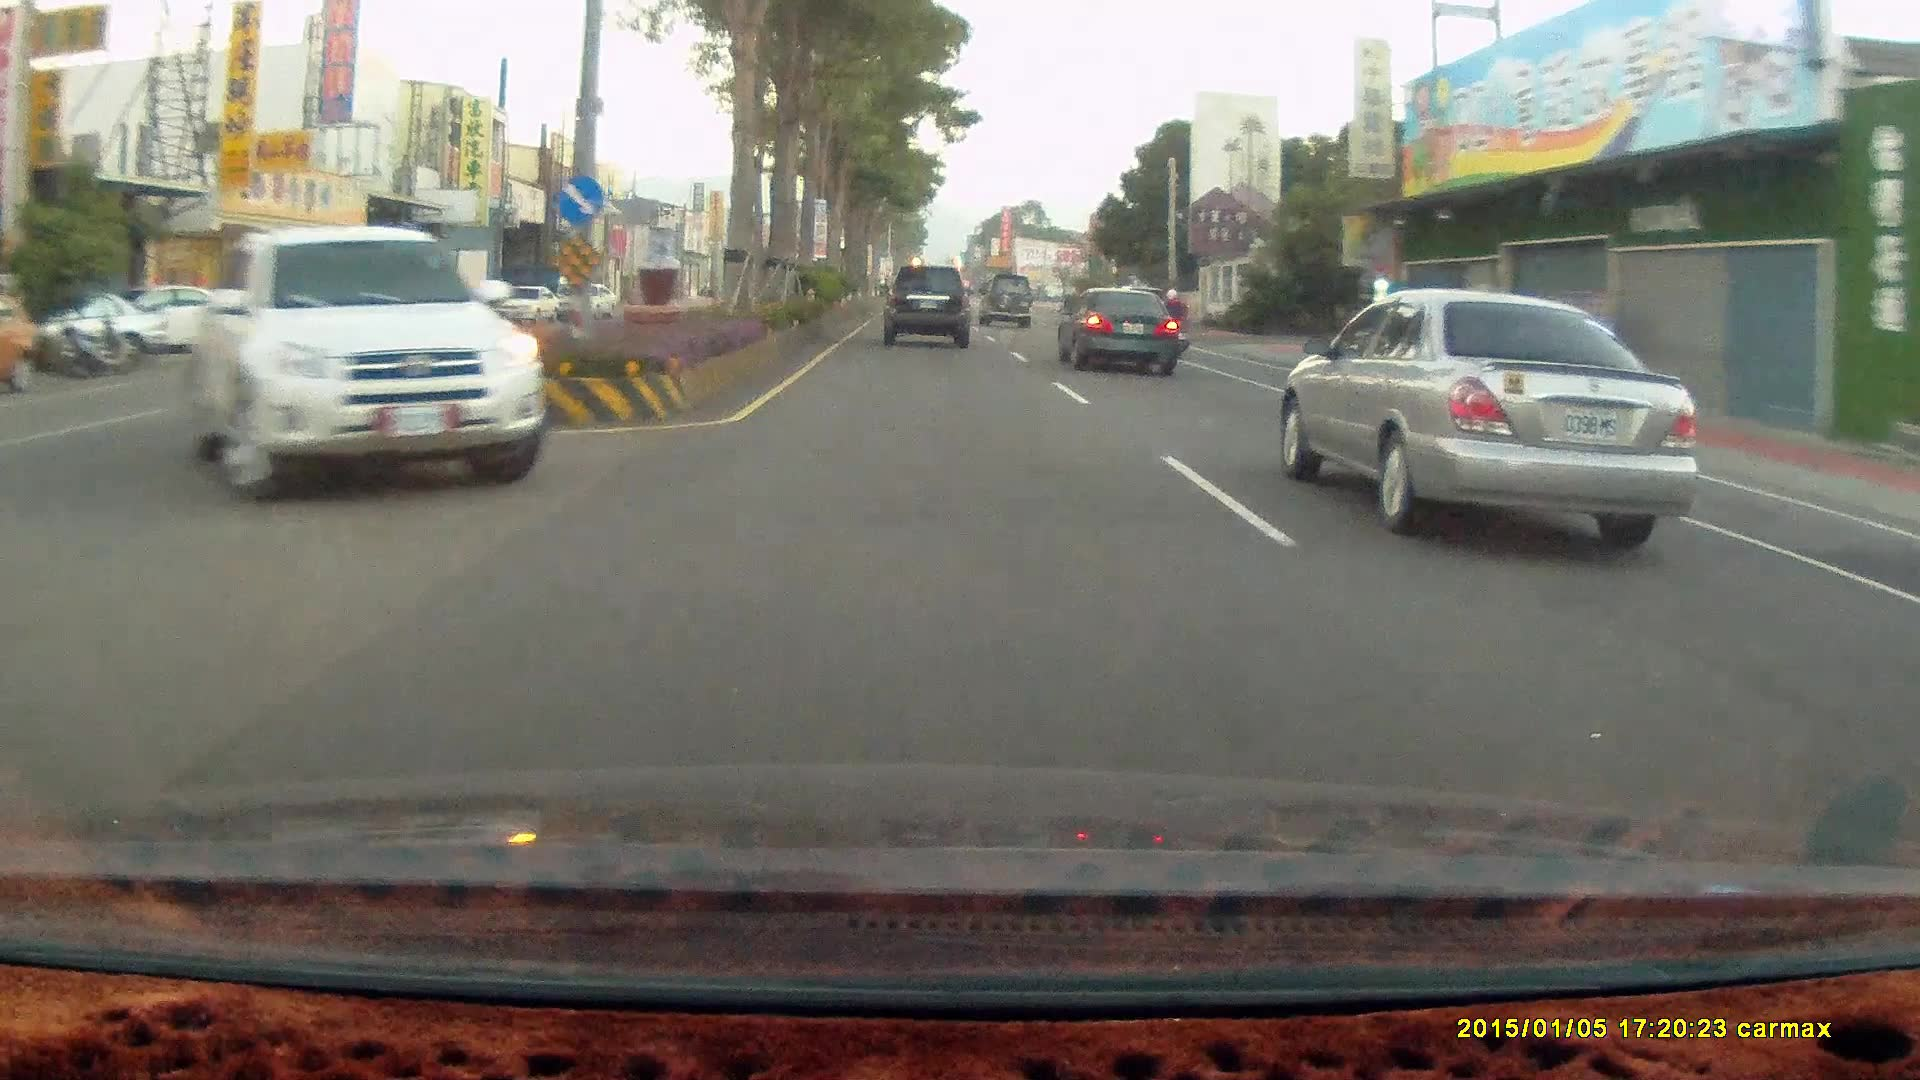rider: (1149, 284, 1190, 361)
vehicle: (170, 228, 548, 507), (1286, 288, 1702, 539), (183, 222, 549, 503), (1054, 286, 1179, 377), (1060, 301, 1188, 387), (99, 282, 247, 353), (118, 286, 248, 357), (881, 264, 978, 356), (880, 265, 970, 348), (395, 245, 488, 319), (980, 278, 1039, 335), (1, 294, 34, 394), (976, 273, 1032, 328), (499, 284, 557, 325)
